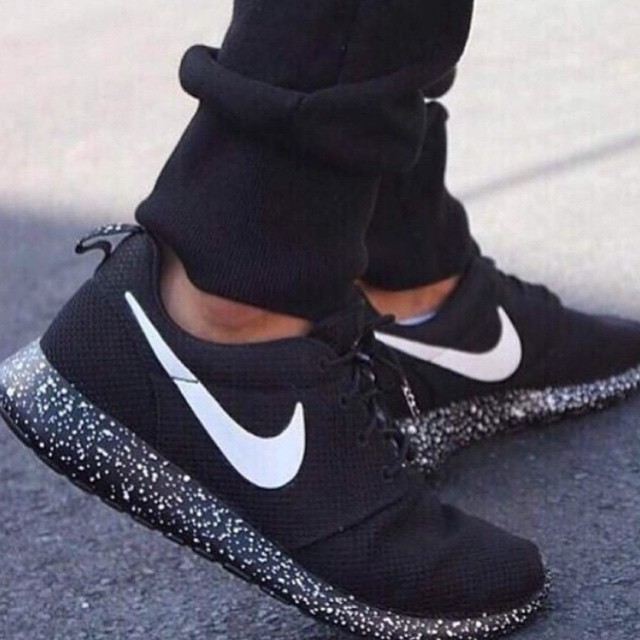sneaker: (2, 182, 565, 640), (313, 214, 640, 499)
